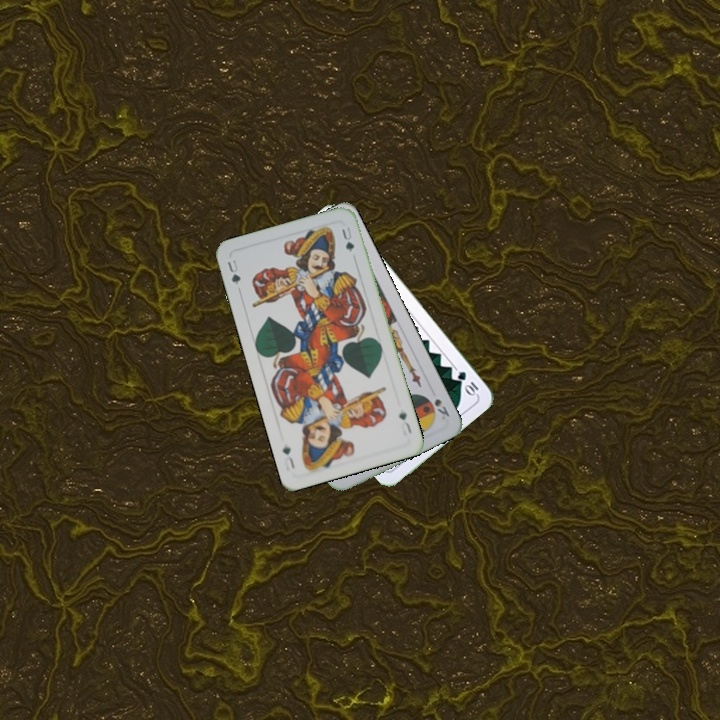G10: (453, 367, 481, 398)
GU: (223, 255, 244, 287), (394, 407, 414, 436)
SK: (430, 394, 452, 422)
